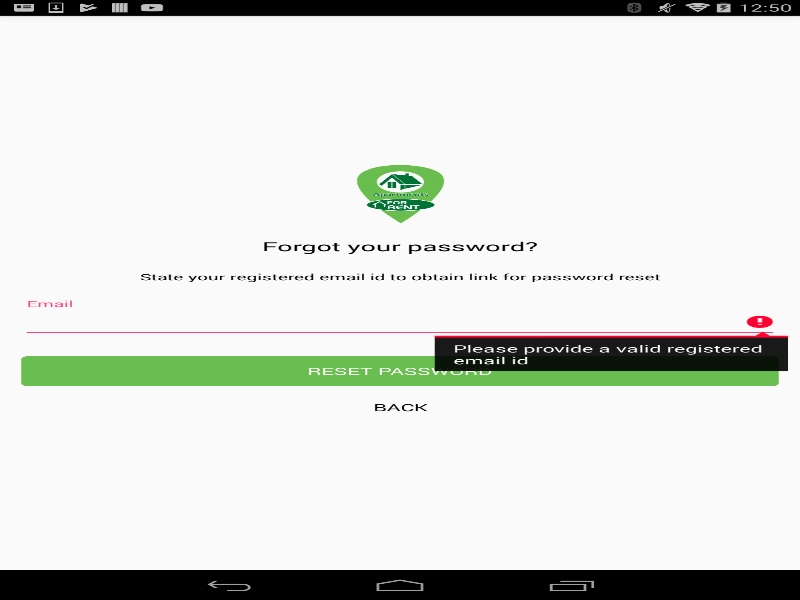Button: (21, 356, 778, 386), (341, 392, 458, 422)
Input: (21, 306, 778, 337)
